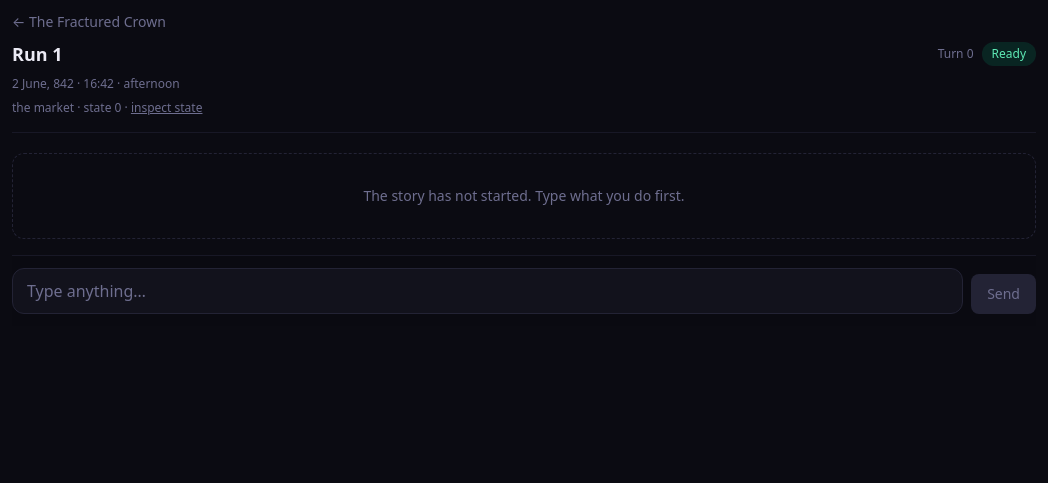
SessionPage › surfaces a provider failure with a retry affordance
The width and height of the screenshot is (1048, 483).
Expected: the heading "Run 1" is shown, [12,40,62,68]
Type "I greet Elena" into the text box with placeholder "Type anything…" at (488, 291), box [12,268,963,314]
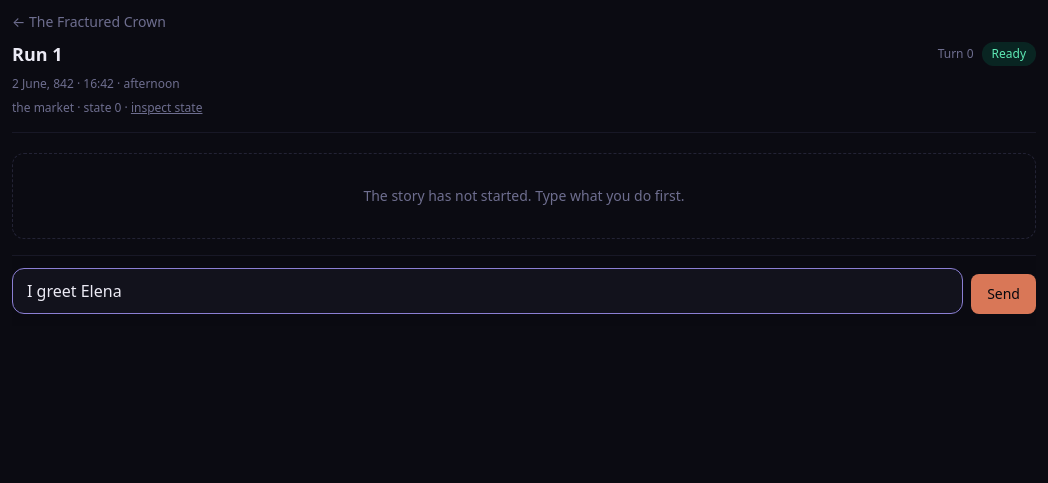
Click the button "Send" at (1004, 294), box [971,274,1036,314]
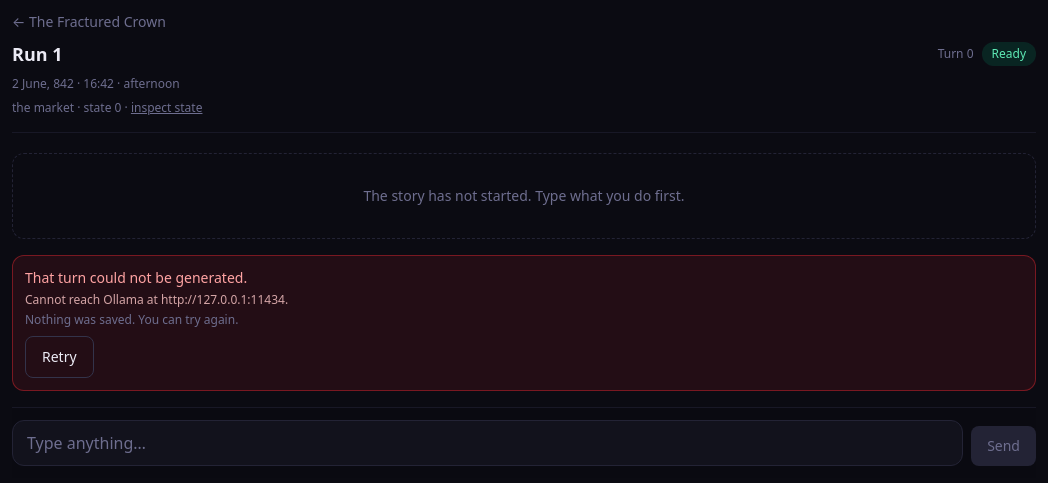
Now the message shows "could not be generated", box [25,268,247,287]
Now the message shows "Cannot reach Ollama", box [25,291,288,308]
Now the message shows "nothing was saved", box [25,311,238,328]
